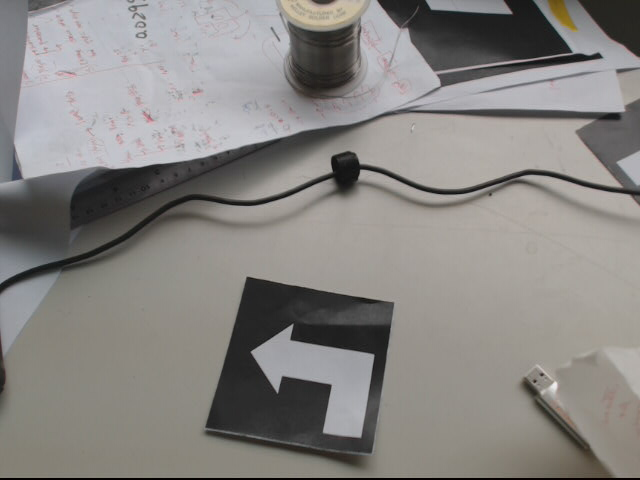left: (202, 274, 395, 455)
